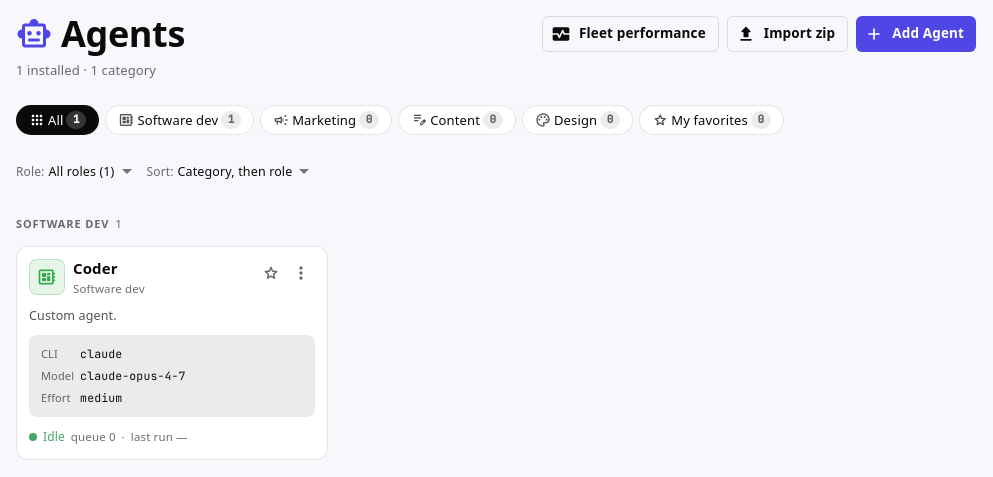
it: Agents page › shows no-favorites message when favorites filter is active and none are starred
Expected: the text "Coder" is shown, [73,259,118,278]
Click the button "My favorites 0". click: (712, 120)
box: [639,105,784,136]
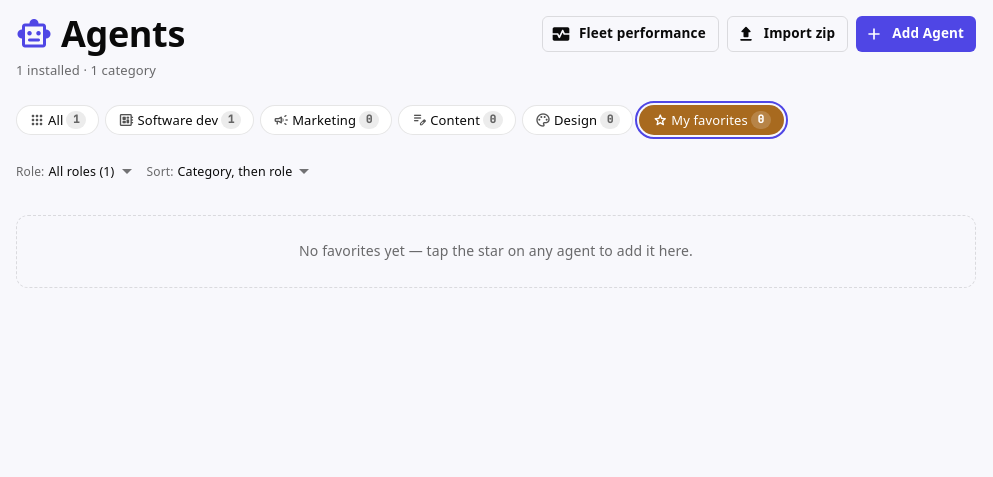
Now the text "No favorites yet — tap the star on any agent to add it here." is shown, box [299,242,693,260]
